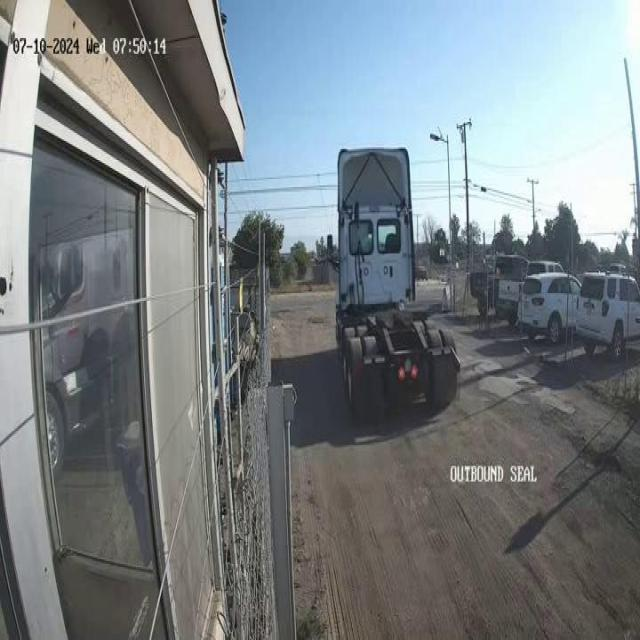TRUCK_OUT: (334, 145, 462, 419)
